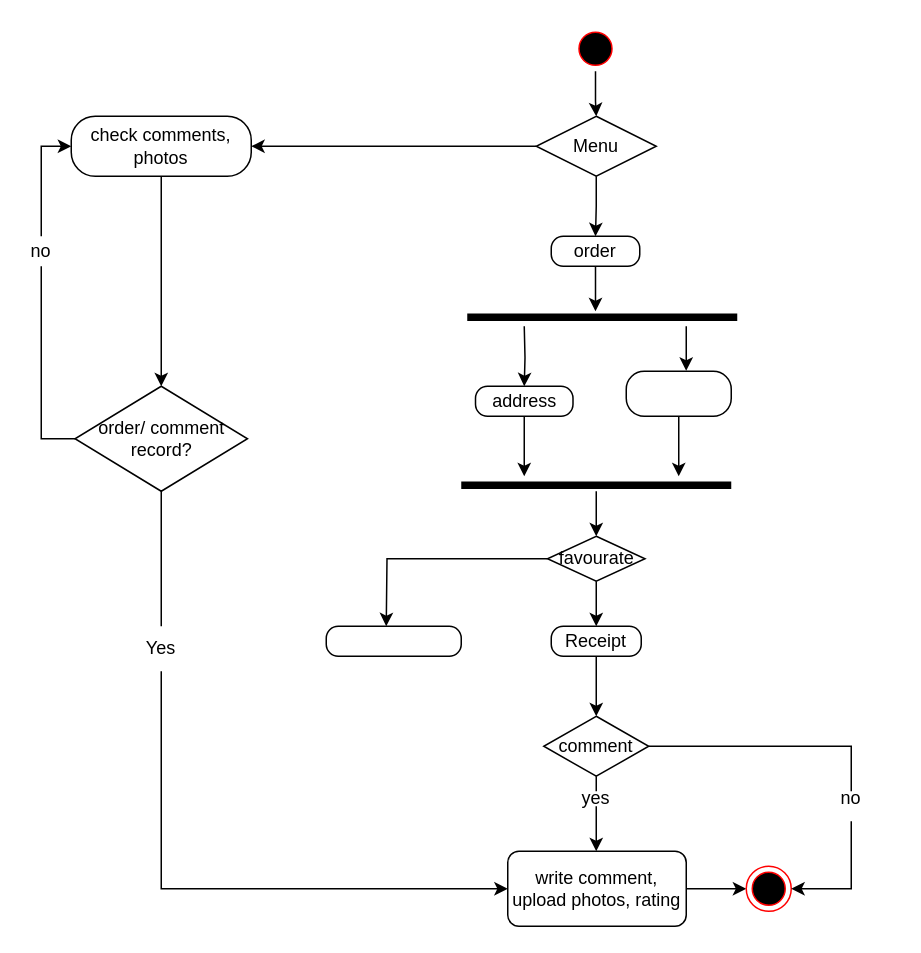
This 921x953 diagram has some shape labels left out. The shapes that lost their labels are listed below. From the top down, each one's box as (x1, y1, x2, y2) in pixels, then its label:
(625, 370, 731, 416): dish id and amount
(325, 625, 461, 656): add favourate
